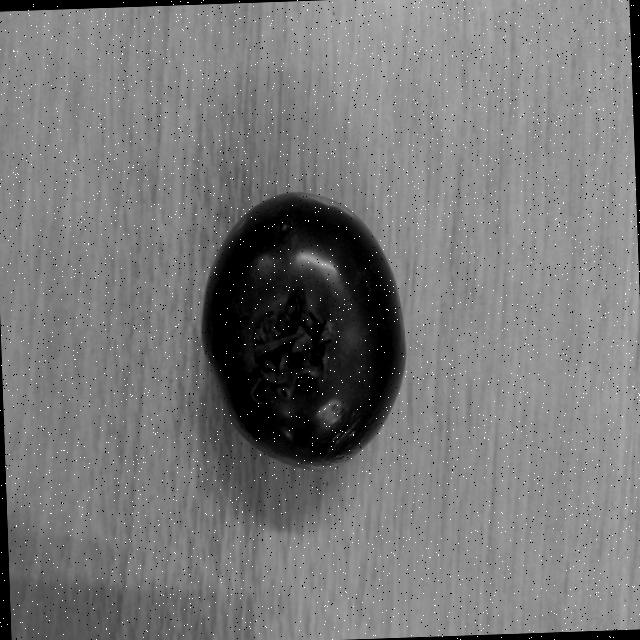Tomato: (195, 186, 414, 472)
